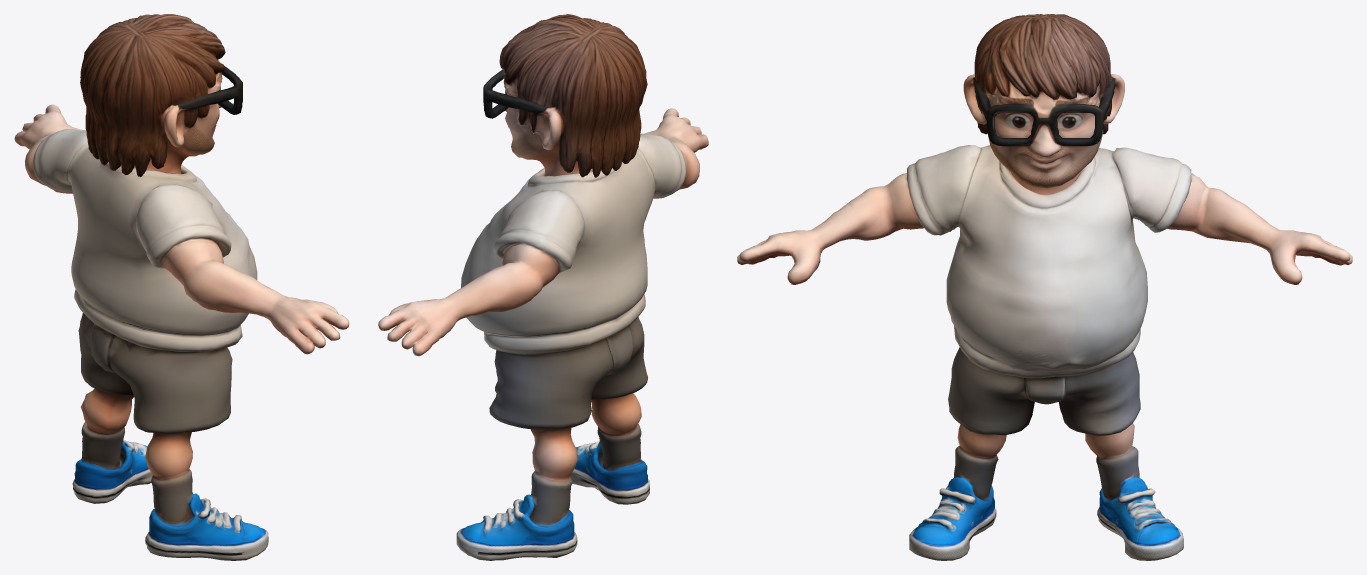
3 views of the same model, side by side, from view 1: azimuth 30°, elevation 25°; view 2: azimuth 150°, elevation 25°; view 3: azimuth 270°, elevation 25° (orthographic). The views are drawn at different scales.
Parts seen in each view (by area): view 1: tripo_node_7e00a10f; view 2: tripo_node_7e00a10f; view 3: tripo_node_7e00a10f.
Part boxes in pixels (x1,y1,x2,y2): tripo_node_7e00a10f: (14,14,349,560); tripo_node_7e00a10f: (378,14,708,560); tripo_node_7e00a10f: (737,14,1352,560).
Bounding box in the file's own units: 31.12 × 92.56 × 100.
1 material, 1 textured.
